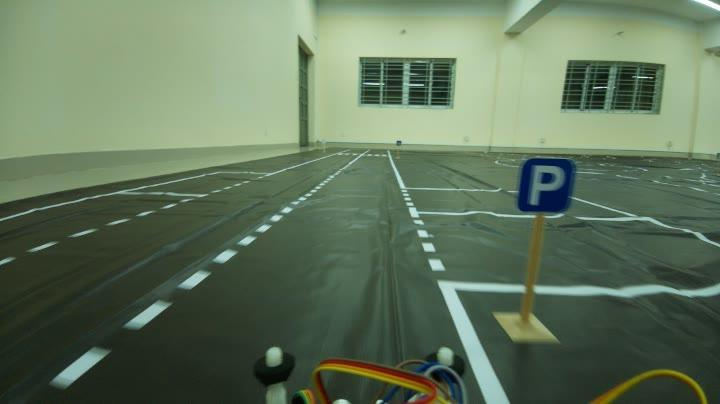parking: (512, 149, 582, 214)
